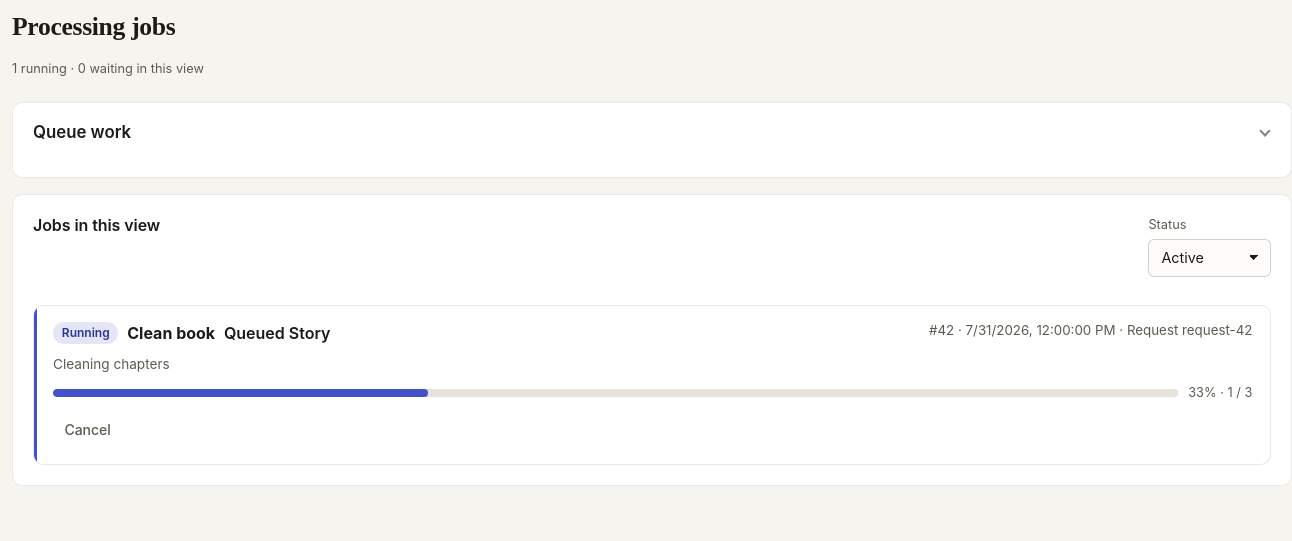
Test case: ProcessingJobs › shows why cancelling a job failed
This screenshot has width=1292, height=541.
Click the button "Cancel".
click(88, 430)  # box [53, 411, 122, 449]
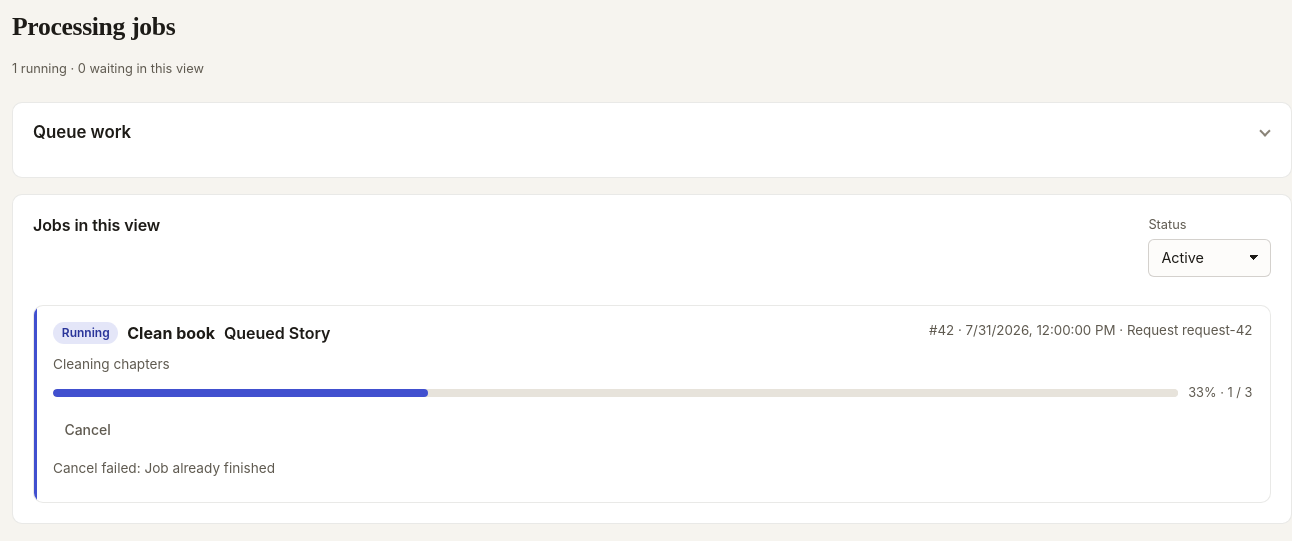
Expected: the message reads "Cancel failed: Job already finished", [53, 460, 275, 476]
